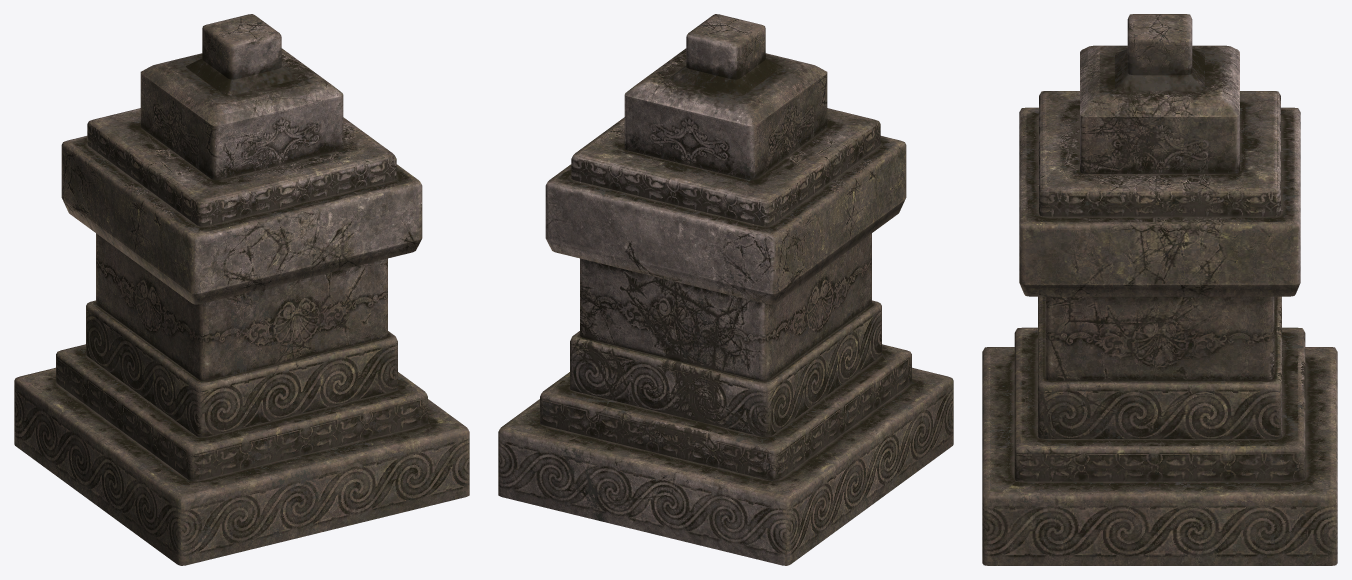
Rendered from SM_gravestone_62.fbx.
The picture shows the model from 3 angles, left to right: view 1: azimuth 30°, elevation 25°; view 2: azimuth 150°, elevation 25°; view 3: azimuth 270°, elevation 25°; orthographic projection. The views are drawn at different scales.
Parts seen in each view (by area): view 1: SM_gravestone_062; view 2: SM_gravestone_062; view 3: SM_gravestone_062.
Boxes of the visible parts, x1,y1,x2,y2 form: SM_gravestone_062: [14, 14, 469, 565]; SM_gravestone_062: [498, 14, 953, 565]; SM_gravestone_062: [982, 14, 1337, 565].
Bounding box in the file's own units: 104 × 151 × 104.
